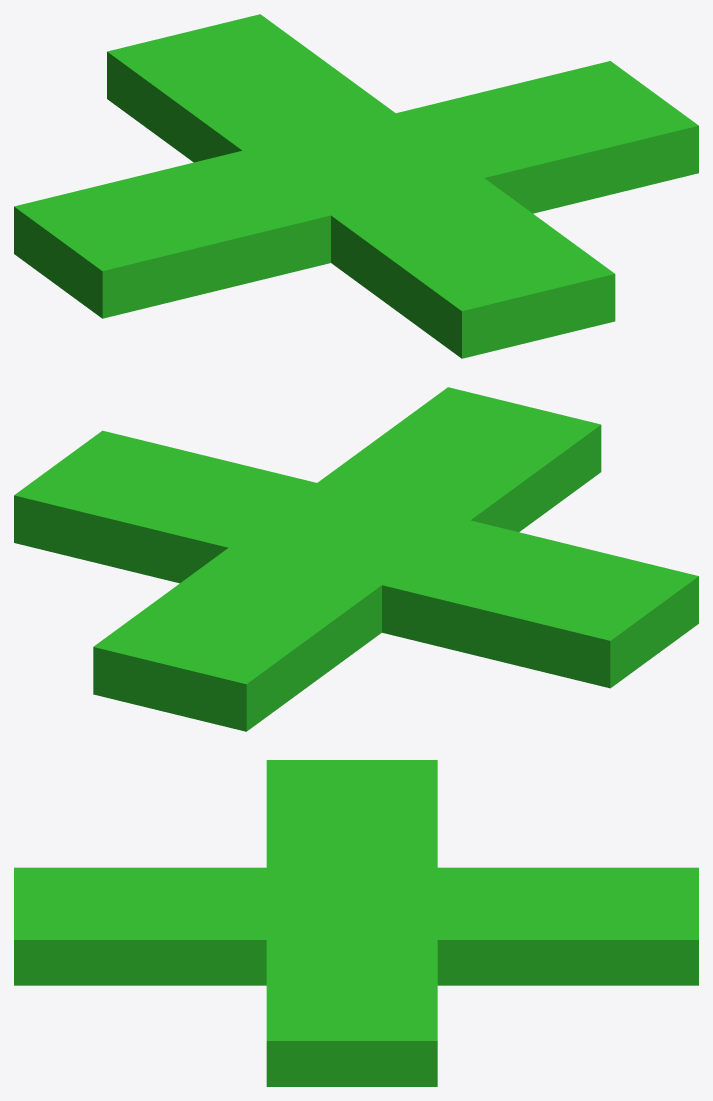
3 renders of one model, top to bottom at view 1: azimuth 30°, elevation 25°; view 2: azimuth 150°, elevation 25°; view 3: azimuth 270°, elevation 25°, orthographic. The views are drawn at different scales.
Visible parts, largest first — view 1: plus; view 2: plus; view 3: plus.
Boxes of the visible parts, box(x1,y1,x2,y2) form: plus: box(14, 14, 698, 358); plus: box(14, 387, 698, 731); plus: box(14, 760, 698, 1086).
Bounding box in the file's own units: 21.01 × 1.6 × 21.65.
